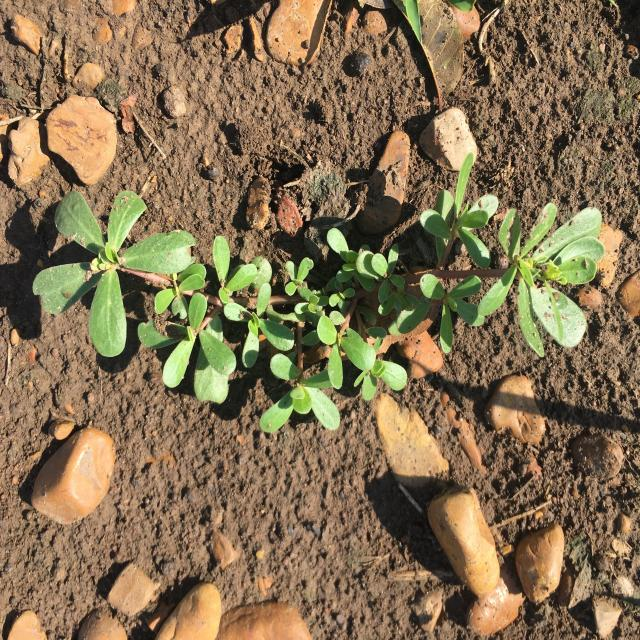Purslane: (32, 152, 605, 432)
